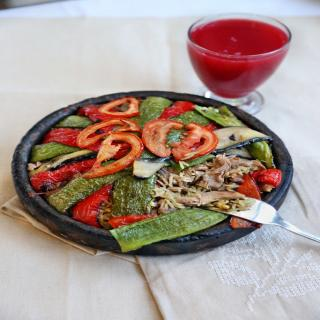tomato: (147, 120, 220, 160)
